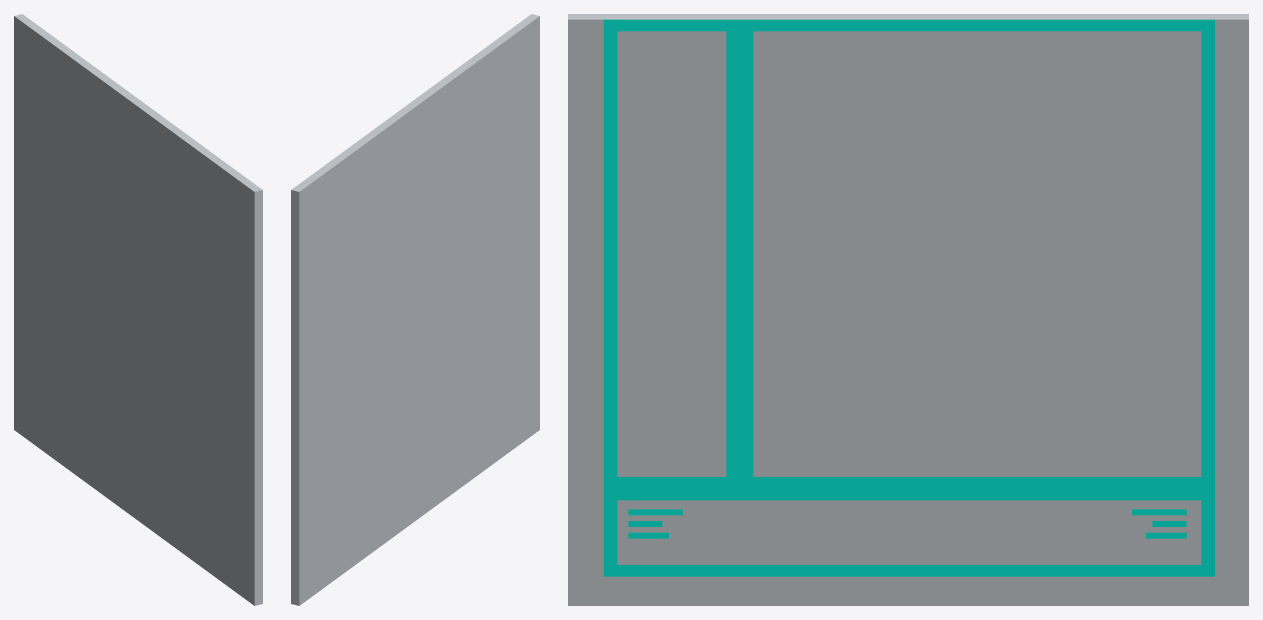
File: wall-01b.fbx
3 renders of one model, left to right at view 1: azimuth 30°, elevation 25°; view 2: azimuth 150°, elevation 25°; view 3: azimuth 270°, elevation 25°, orthographic. The views are drawn at different scales.
Visible parts, largest first — view 1: wall-01b; view 2: wall-01b; view 3: wall-01b.
Boxes of the visible parts, box(x1,y1,x2,y2) form: wall-01b: box(14, 14, 262, 605); wall-01b: box(291, 14, 539, 605); wall-01b: box(568, 14, 1248, 605).
Size of the model in its own units: 2 by 95 by 100.
